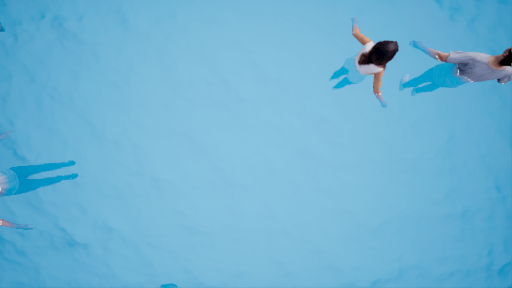person: (404, 36, 512, 102), (330, 14, 391, 109)
